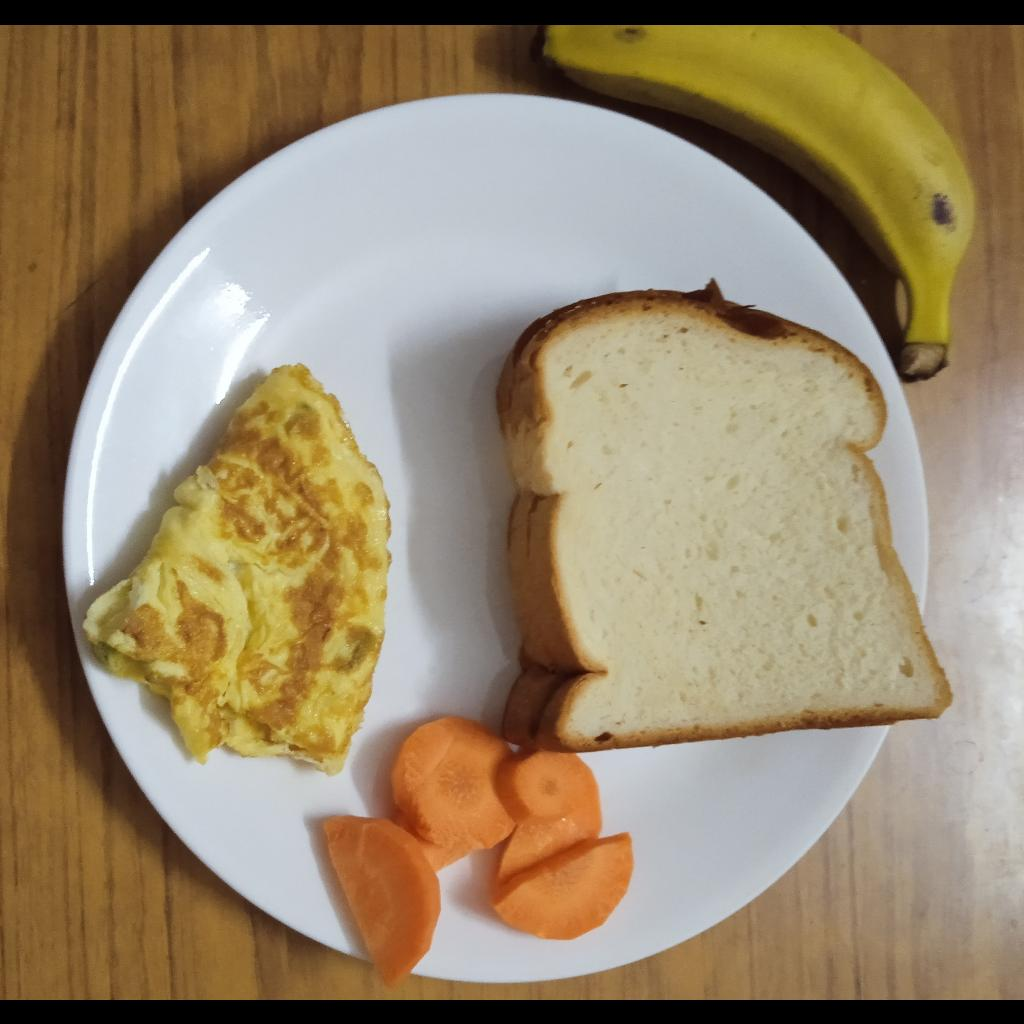banana: (532, 25, 974, 382)
bread: (490, 276, 950, 749)
carrot: (323, 713, 633, 993)
egg-poached: (83, 366, 393, 780)
